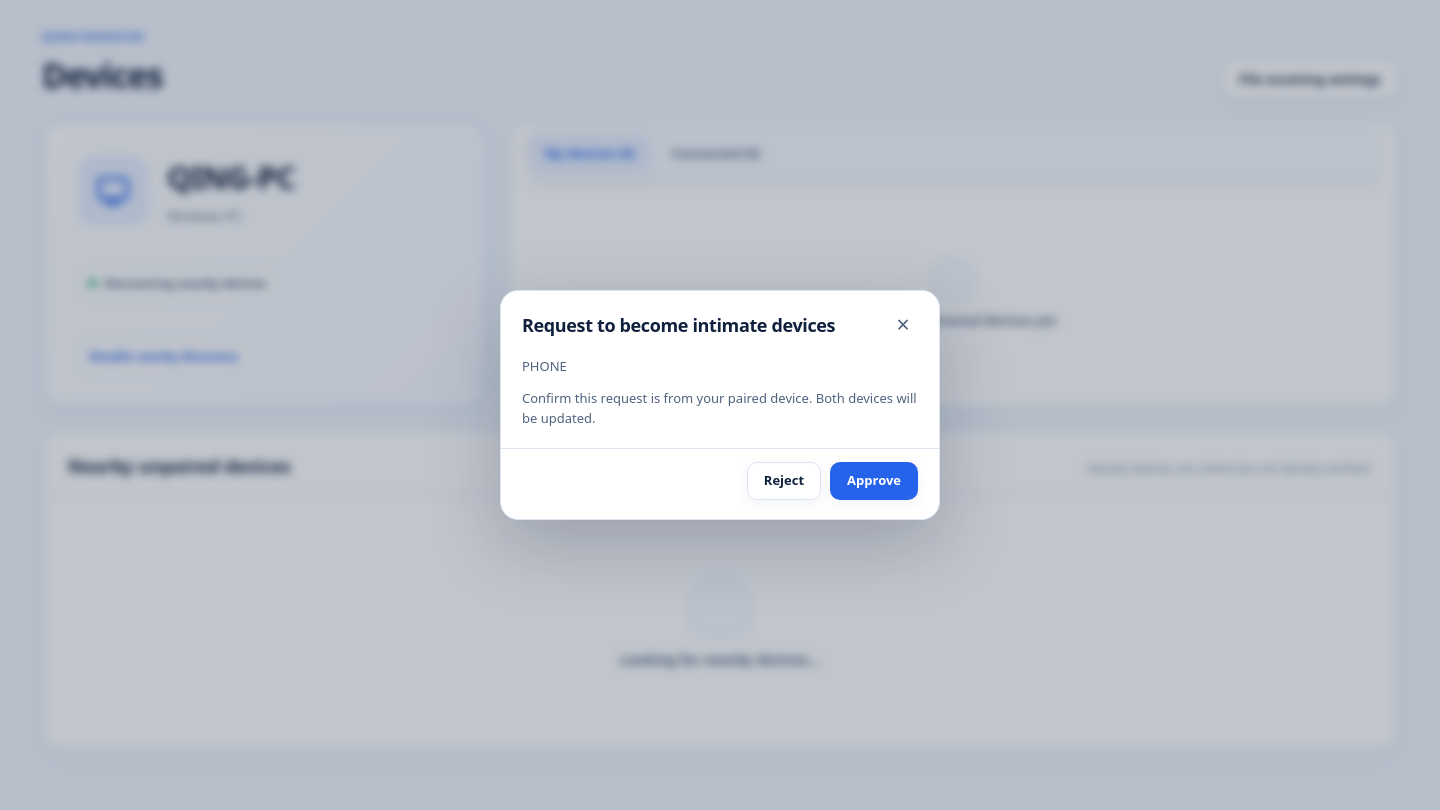
it: DevicesPage › uses the project modal for relationship requests and completion notices
expect the dialog shows "Request to become intimate devices": met, box [522,313,835,337]
Step 1. Click the button with class "is-primary" → {"x": 874, "y": 481}, box [830,462,918,500]
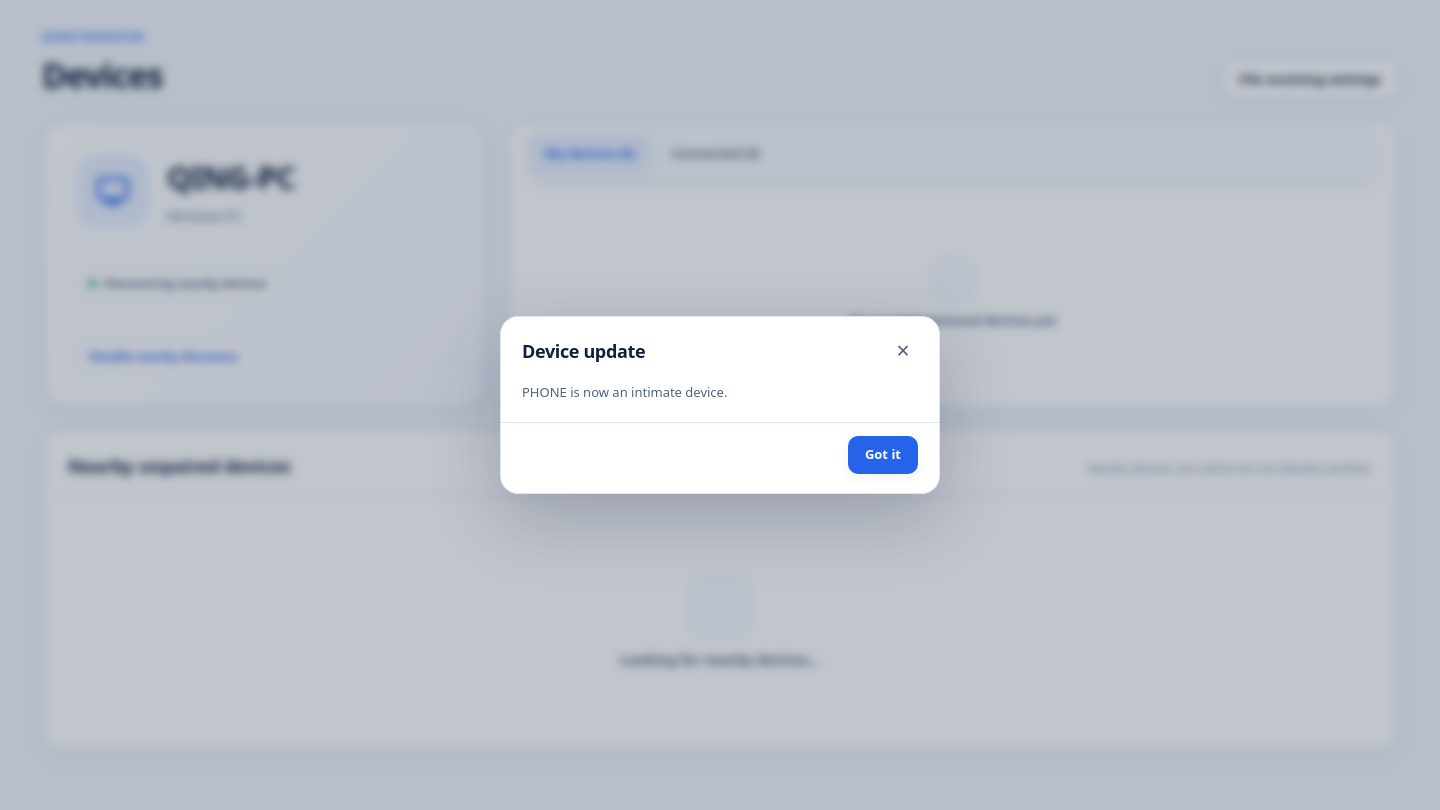
expect the dialog shows "PHONE is now an intimate device.": met, box [522,383,727,401]
